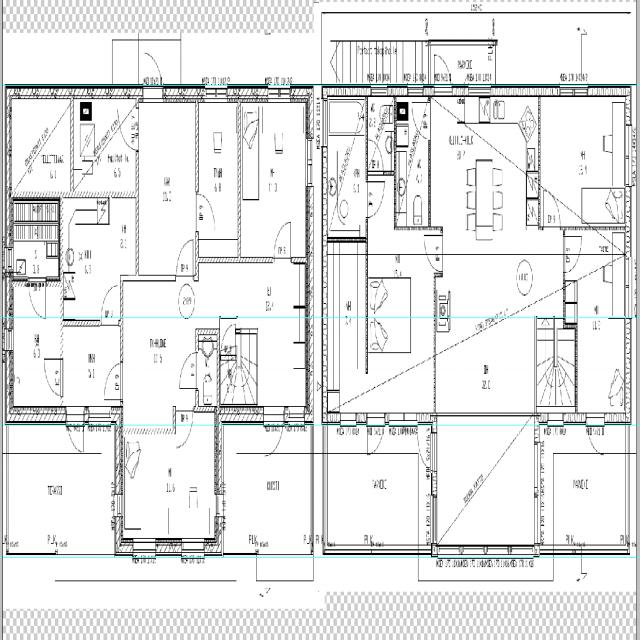door: (143, 41, 163, 103), (47, 40, 68, 99), (264, 408, 284, 468), (65, 406, 85, 466), (434, 43, 453, 97), (586, 412, 605, 466), (412, 432, 437, 473), (366, 412, 385, 465), (116, 110, 138, 151), (28, 277, 46, 323), (101, 282, 119, 326), (196, 192, 216, 230), (103, 363, 123, 400), (43, 359, 63, 396), (176, 237, 193, 280), (274, 221, 291, 263), (176, 407, 193, 449), (179, 352, 198, 389), (424, 236, 443, 272), (366, 181, 384, 217), (412, 102, 430, 138), (563, 237, 581, 272), (220, 318, 236, 356), (544, 192, 560, 230), (369, 140, 383, 174)
